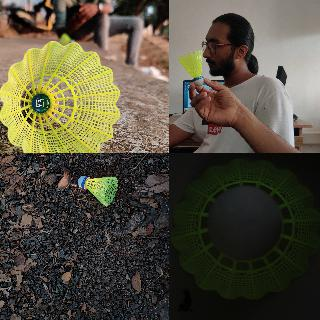shuttlecock: (171, 158, 319, 298), (0, 39, 122, 152), (76, 173, 118, 207), (177, 50, 203, 84)
